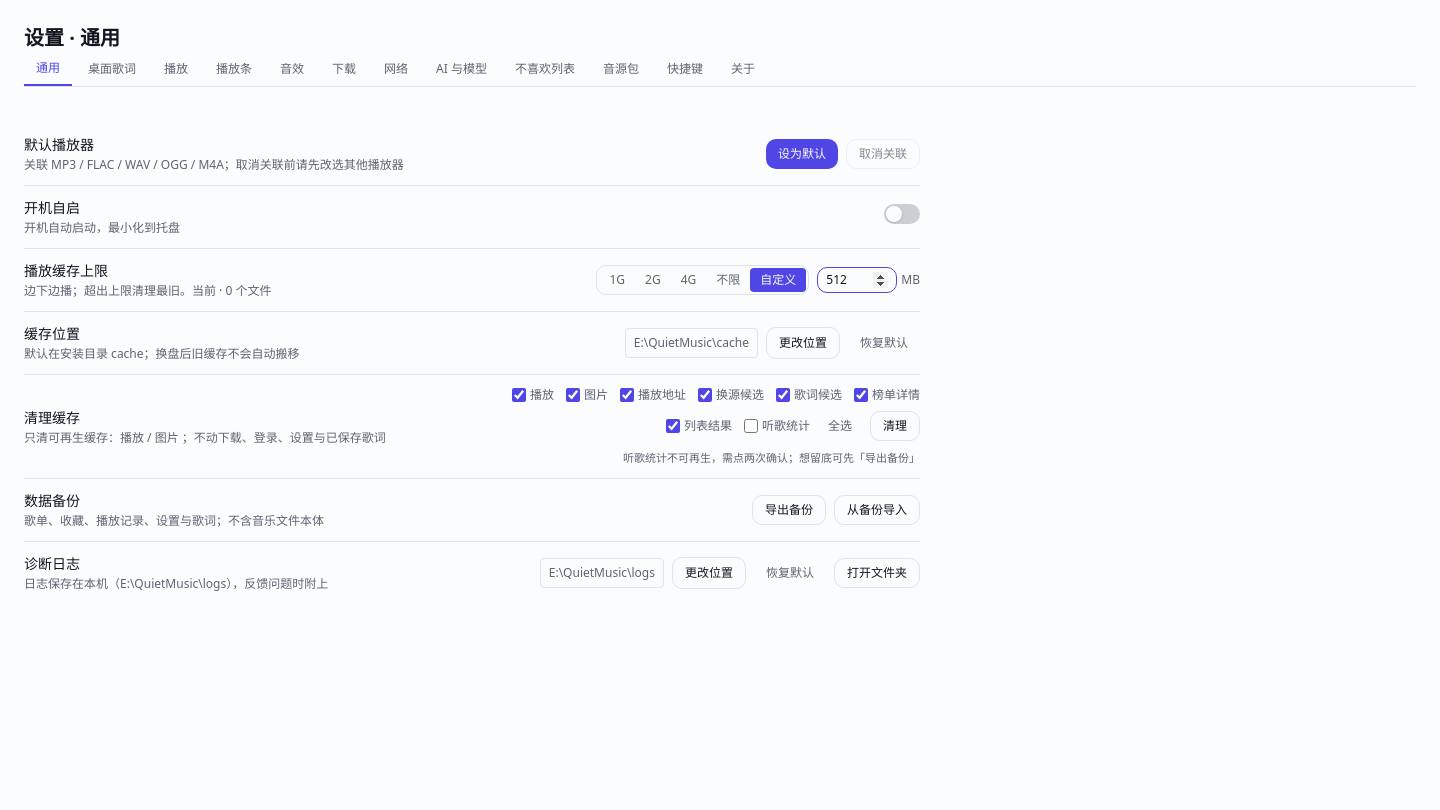
Scenario: 设置页 · 通用 · 日志区 › 恢复失败不清除当前标记与规则引用
Click the button "从备份导入" at (877, 510), box [834,495,920,525]
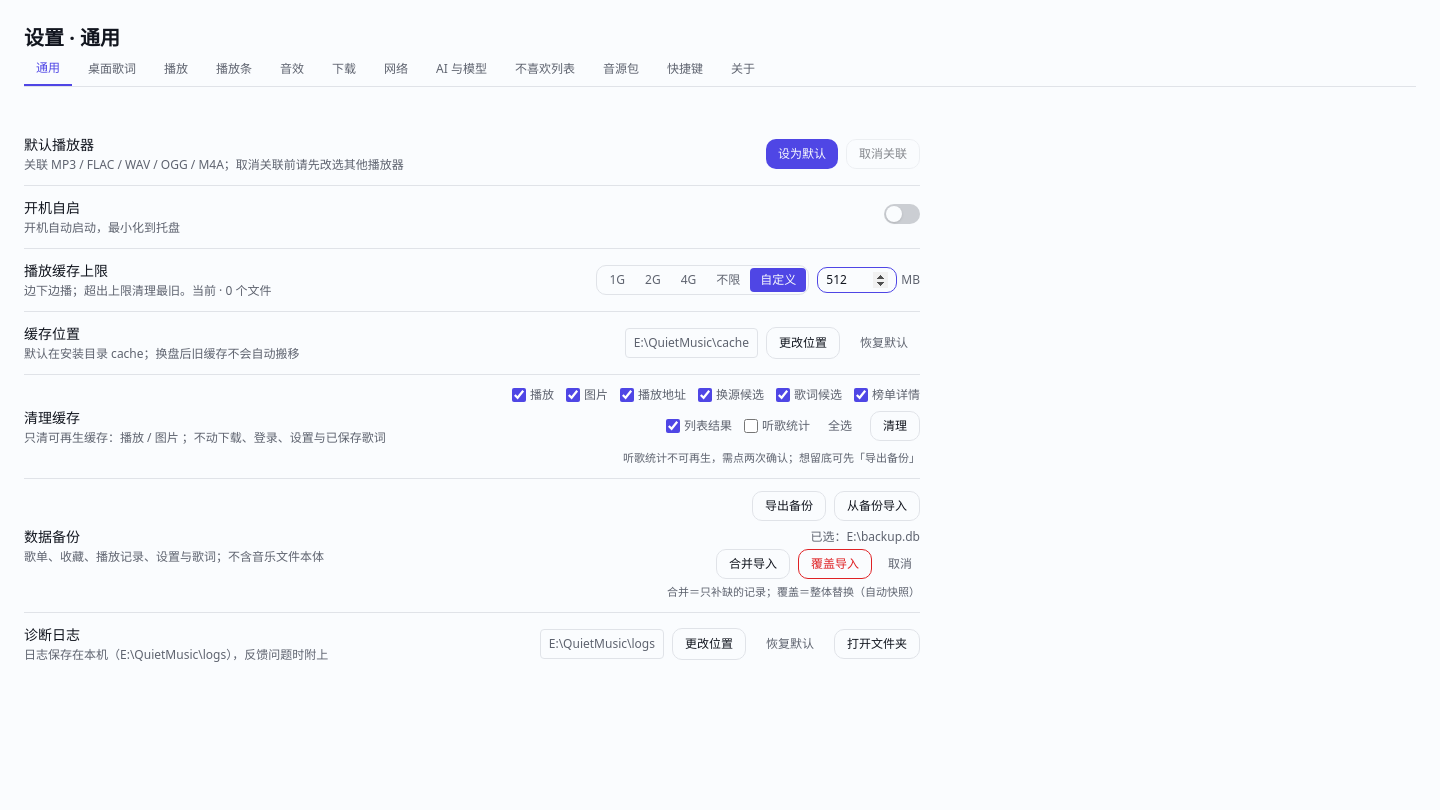
Now the text "合并导入" is shown
Now the button "合并导入" is shown
Click the button "合并导入" at (753, 564), box [716,549,790,579]
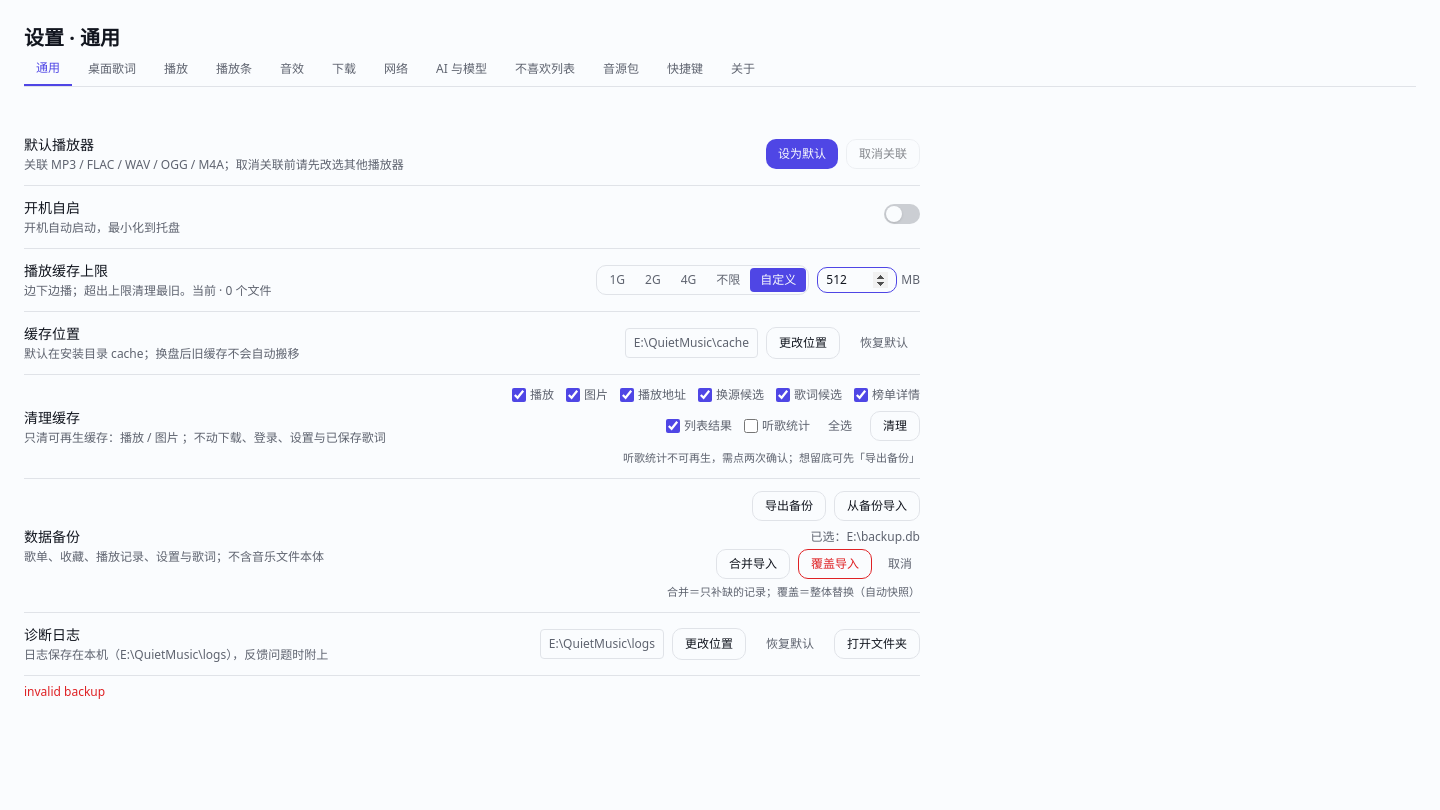
Now the text "invalid backup" is shown, box [24,683,105,700]
